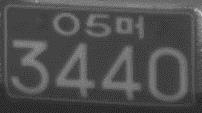0: (147, 45, 189, 102), (52, 11, 81, 37)
3: (10, 37, 49, 95)
4: (55, 41, 96, 99), (101, 43, 142, 100)
5: (84, 12, 111, 38)
머: (115, 14, 145, 41)
